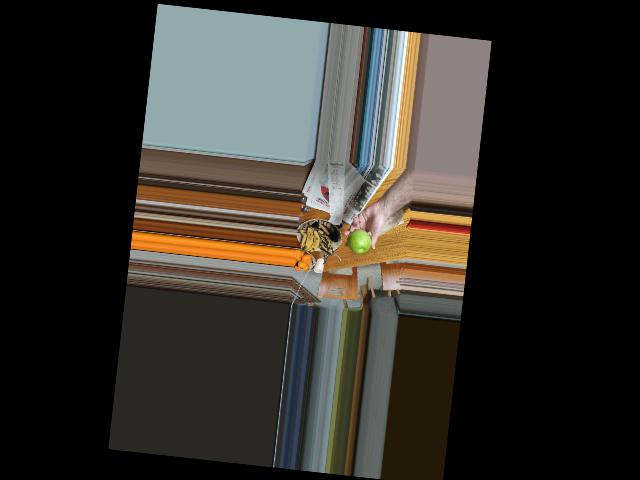apple: (347, 227, 372, 254)
